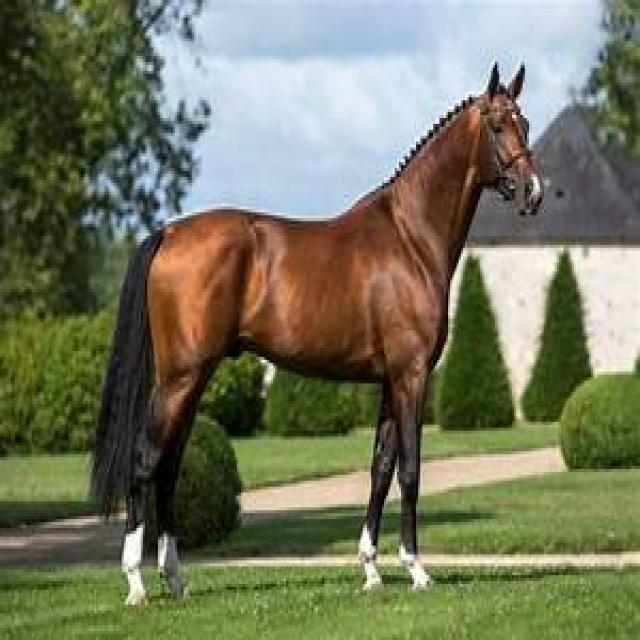horse: (92, 68, 540, 608)
